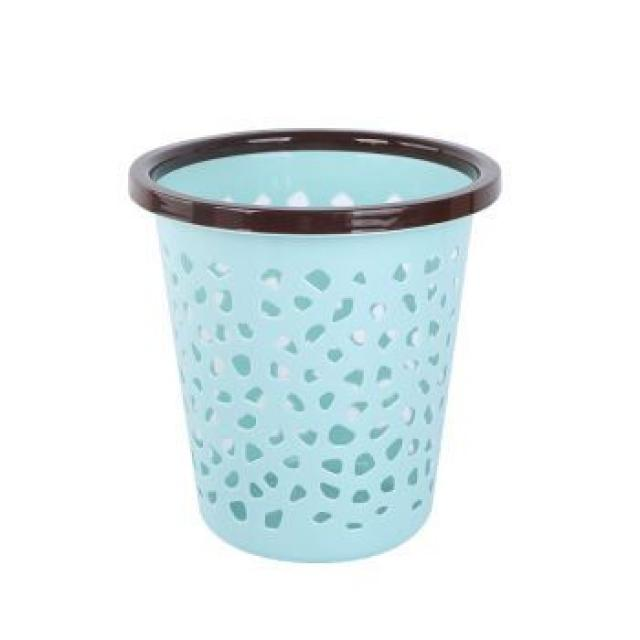Dustbin: (123, 120, 507, 570)
